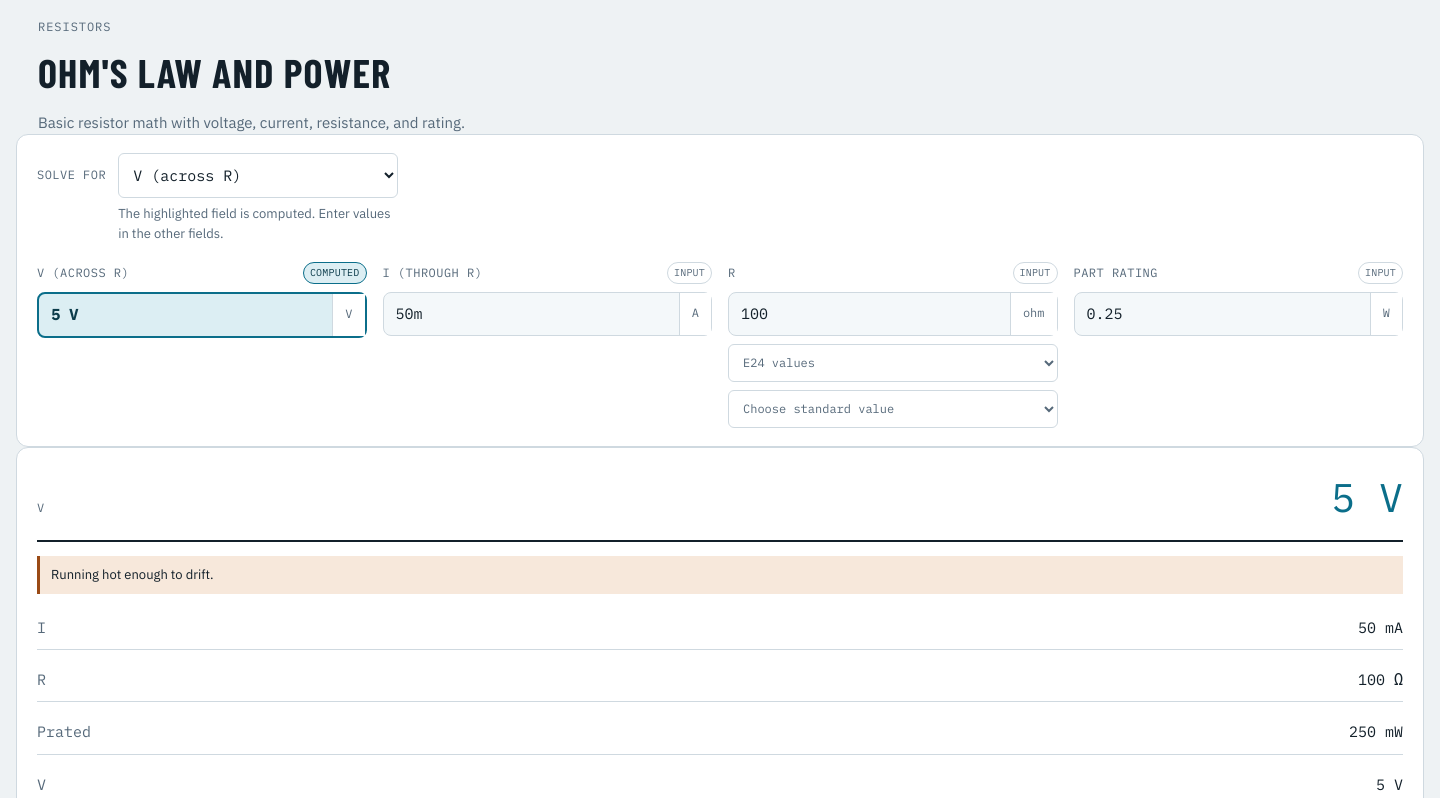
Test case: OhmView › switches target and disables the newly-computed field
Select "R" in the dropdown labelled "Solve for" at (258, 175), box [118, 153, 398, 198]
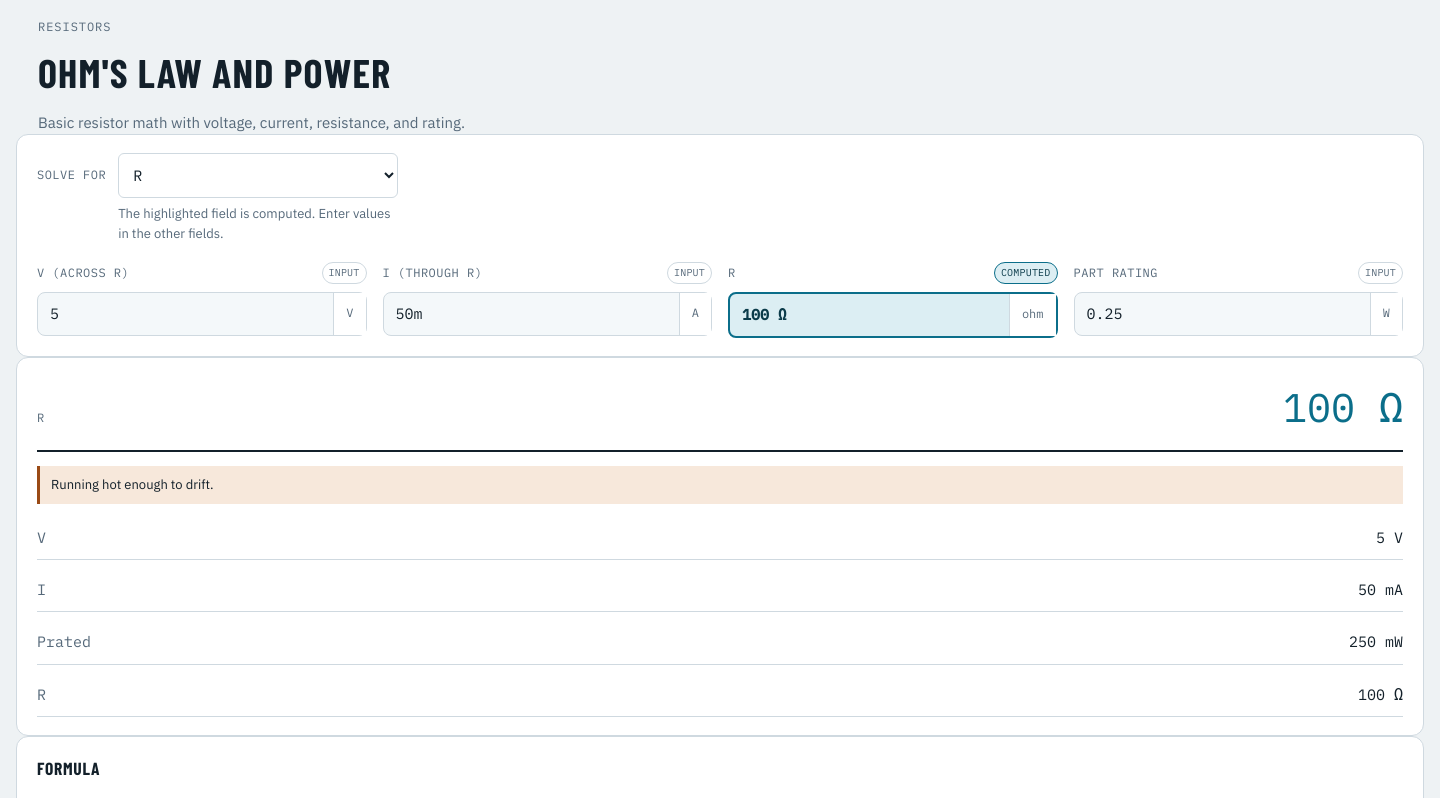
Expected: the field labelled "R" is disabled, [730, 294, 1009, 336]
